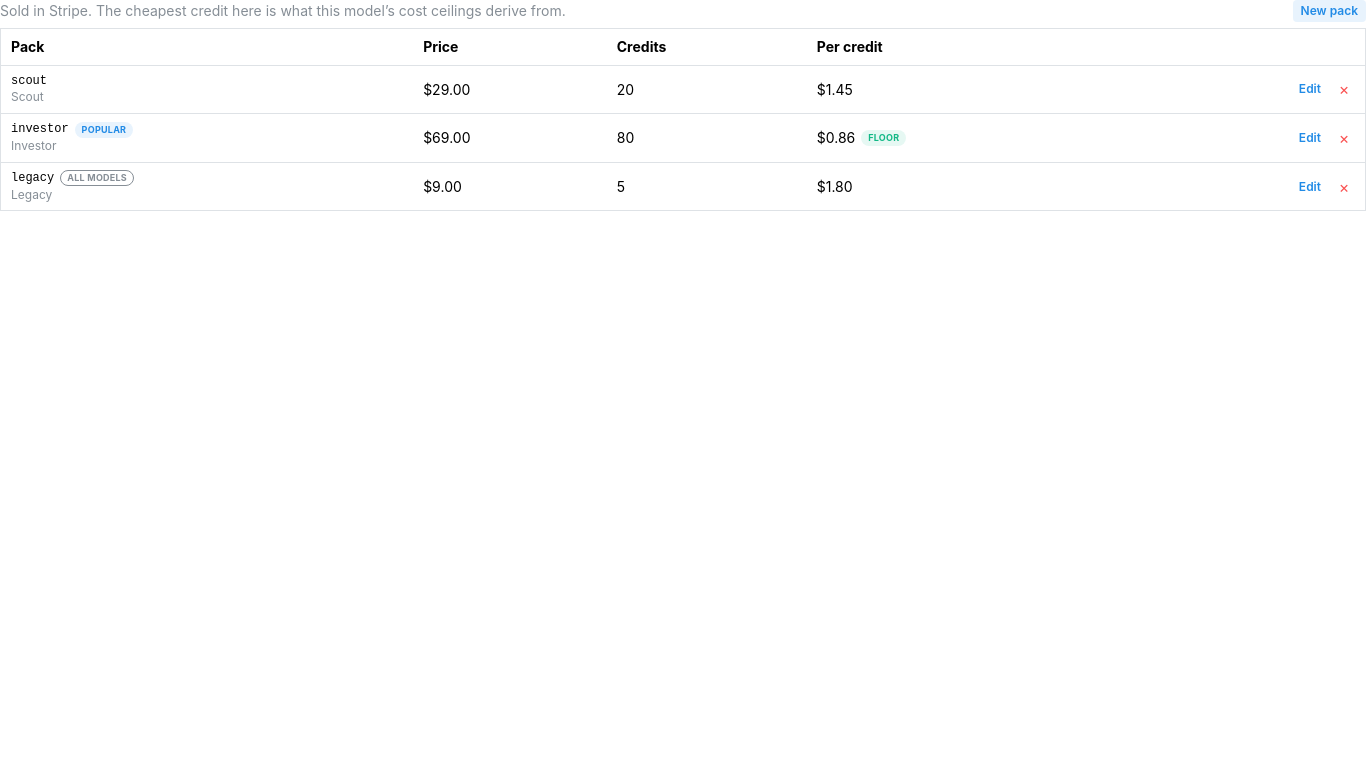
Test: the copy, in four languages › marks the languages that fall back, so "no copy" is visible without clicking each tab
Click the button "Edit" in the row of "$29.00" at (1310, 90), box [1291,78,1329,100]
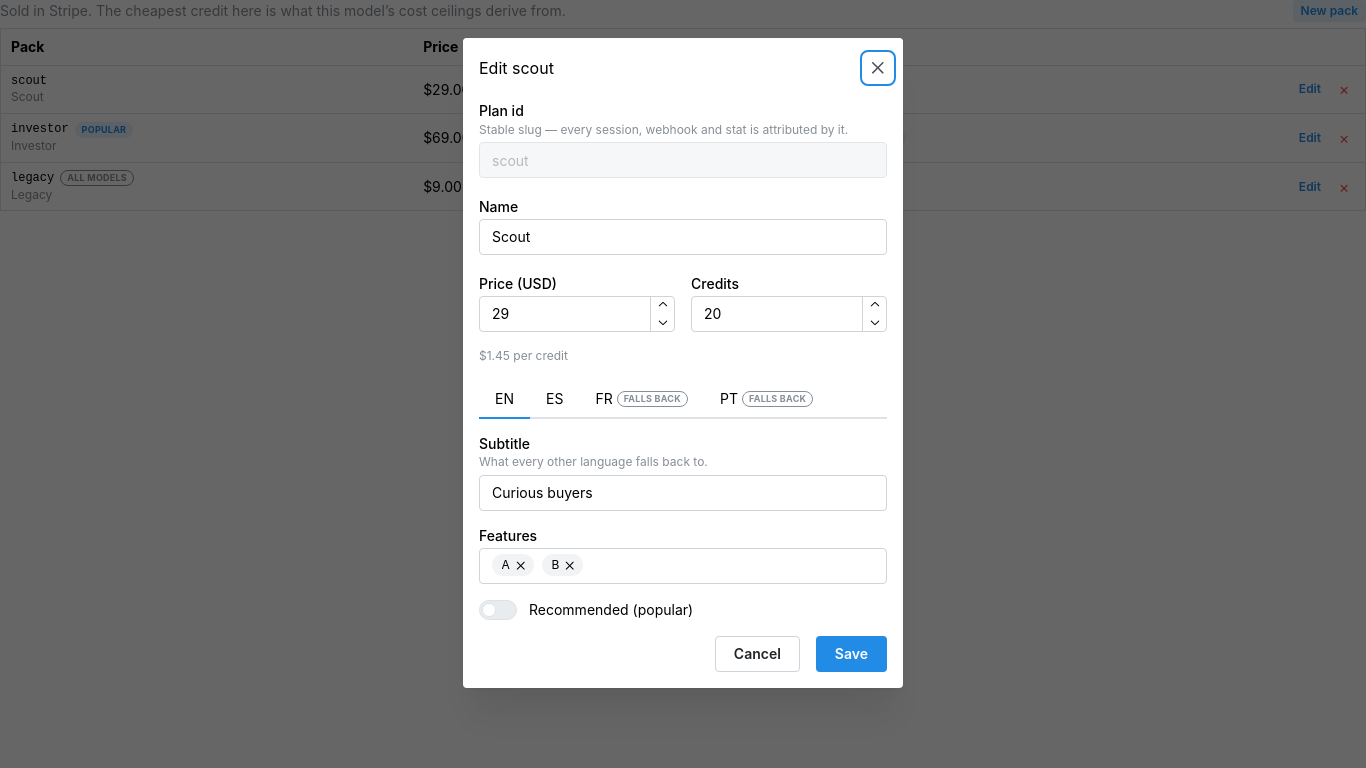
Expected: the field labelled "Subtitle" is shown, [479,475,887,511]
Expected: the tab "FR falls back" is shown, [579,381,704,419]
Expected: the tab "PT falls back" is shown, [704,381,829,419]
